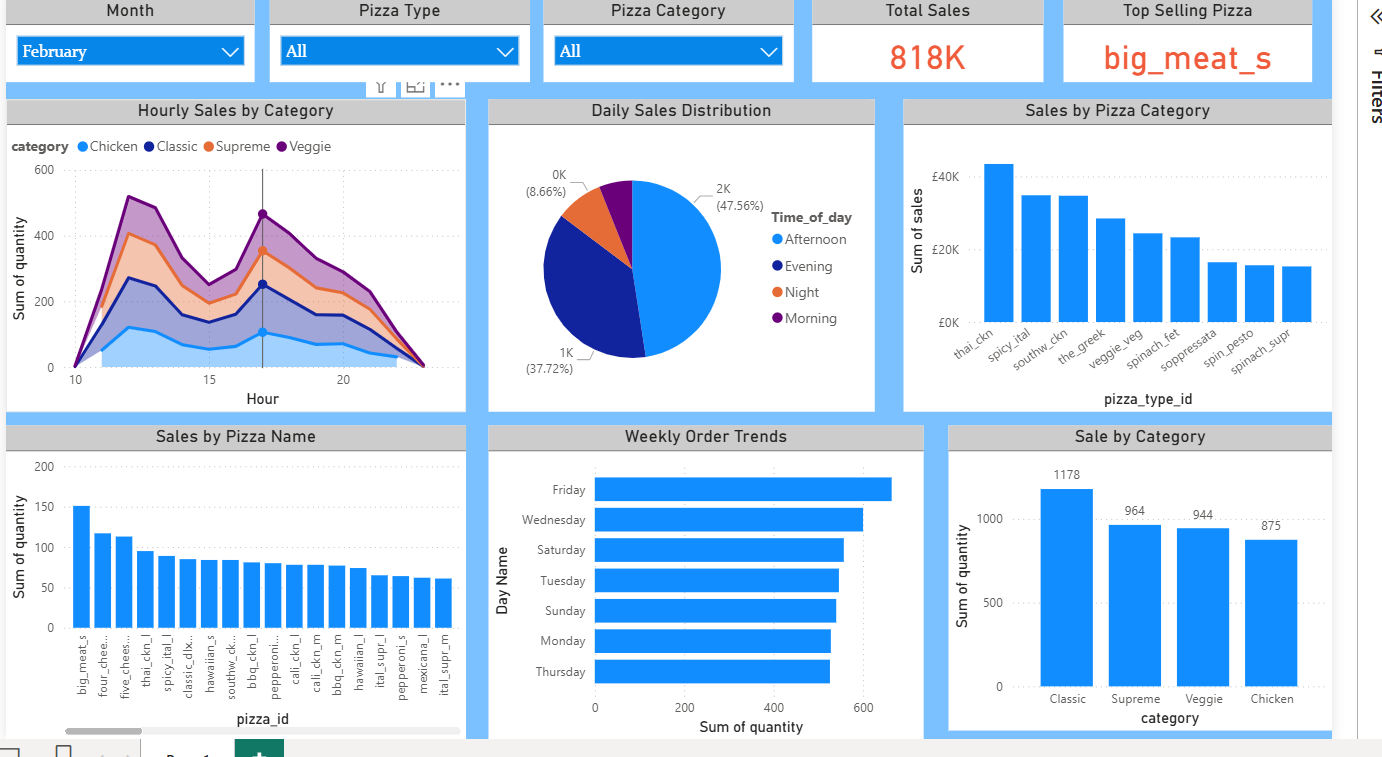

The dashboard page shown, as its layout file describes it:
{"tool":"powerbi","page":{"name":"Page 1","canvas":[1280,720],"ordinal":0},"visuals":[{"type":"clusteredBarChart","fields":{"Category":["orders.Day Name"],"Y":["Sum(order_details.quantity)"]},"box":[10,0,304.3,305.7],"z":0},{"type":"columnChart","fields":{"Category":["order_details.pizza_id"],"Y":["Sum(order_details.quantity)"]},"box":[10,360,372.9,360],"z":1},{"type":"pieChart","fields":{"Y":["Sum(order_details.quantity)"],"Category":["orders.Time_of_day"]},"box":[348.6,0,372.9,268.6],"z":2},{"type":"columnChart","title":"Hot selling Category of pizza","fields":{"Category":["pizza_types.category"],"Y":["Sum(order_details.quantity)"]},"box":[422.9,360,374.3,358.6],"z":3},{"type":"card","fields":{"Values":["pizzas.Total Sales"]},"box":[677.1,0,278.6,82.9],"z":6},{"type":"card","fields":{"Values":["order_details.Most Ordered Pizza"]},"box":[887.1,14.3,352.9,82.9],"z":7},{"type":"columnChart","fields":{"Y":["CountNonNull(pizzas.sales)"],"Category":["pizzas.pizza_type_id"]},"box":[817.1,422.9,318.6,297.1],"z":8},{"type":"lineChart","fields":{"Y":["Sum(order_details.order_details_id)"],"Category":["orders.Hour"]},"box":[898.6,157.1,300,235.7],"z":9},{"type":"qnaVisual","box":[1130,422.9,150,297.1],"z":10}]}

Visuals, with their boxes on the page's 1280x720 design canvas (x1, y1, x2, y2). These are canvas units, not pixel positions in the 1382x757 screenshot, which may show the page scaled, cropped or inside an application window:
clusteredBarChart - orders.Day Name x Sum(order_details.quantity): <region>10, 0, 314, 306</region>
columnChart - order_details.pizza_id x Sum(order_details.quantity): <region>10, 360, 383, 720</region>
pieChart - Sum(order_details.quantity) x orders.Time_of_day: <region>349, 0, 722, 269</region>
"Hot selling Category of pizza" columnChart: <region>423, 360, 797, 719</region>
card - pizzas.Total Sales: <region>677, 0, 956, 83</region>
card - order_details.Most Ordered Pizza: <region>887, 14, 1240, 97</region>
columnChart - CountNonNull(pizzas.sales) x pizzas.pizza_type_id: <region>817, 423, 1136, 720</region>
lineChart - Sum(order_details.order_details_id) x orders.Hour: <region>899, 157, 1199, 393</region>
qnaVisual: <region>1130, 423, 1280, 720</region>
